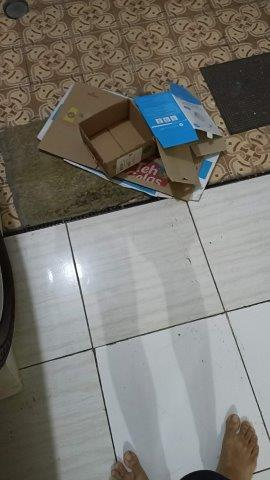kardus: (49, 83, 222, 198)
